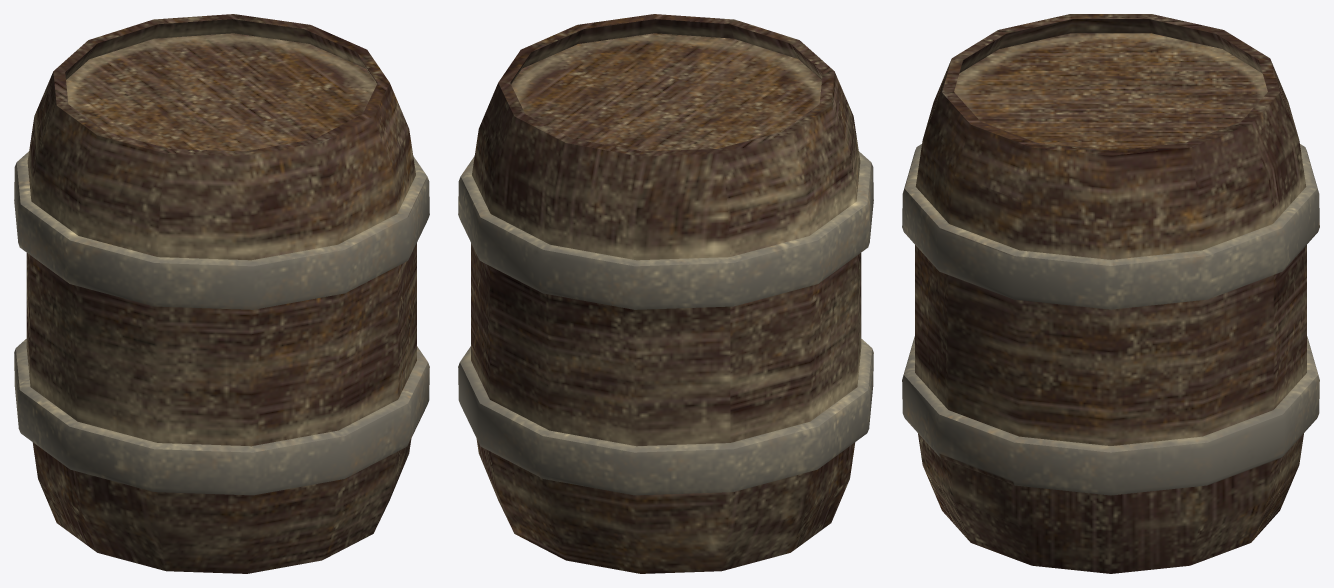
File: Beczka.fbx
The picture shows the model from 3 angles, left to right: view 1: azimuth 30°, elevation 25°; view 2: azimuth 150°, elevation 25°; view 3: azimuth 270°, elevation 25°; orthographic projection.
Parts seen in each view (by area): view 1: Cylinder860; view 2: Cylinder860; view 3: Cylinder860.
Boxes of the visible parts, x1,y1,x2,y2 form: Cylinder860: [14, 14, 429, 573]; Cylinder860: [458, 14, 873, 573]; Cylinder860: [902, 14, 1319, 573].
Size of the model in its own units: 0.411 by 0.4573 by 0.414.
